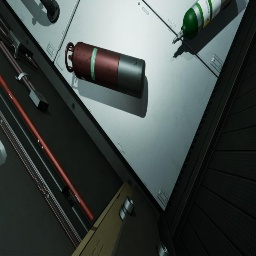0: (172, 0, 232, 44)
NitrogenTank ,: (65, 42, 146, 99)
